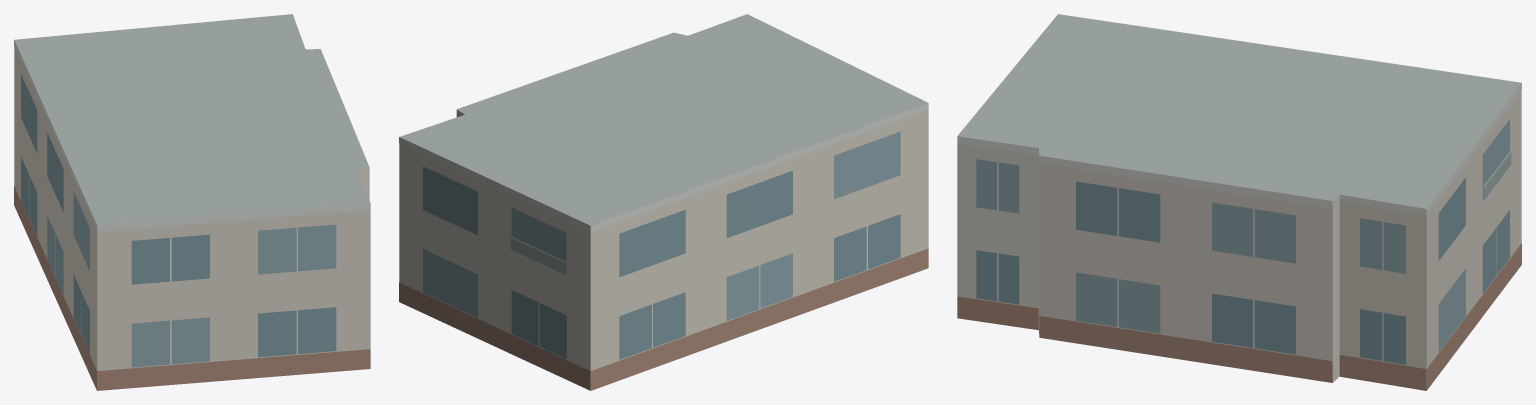
The model's file is survey-upis-32693910.glb.
3 renders of one model, left to right at view 1: azimuth 30°, elevation 25°; view 2: azimuth 150°, elevation 25°; view 3: azimuth 270°, elevation 25°, orthographic. The views are drawn at different scales.
Visible parts, largest first — view 1: survey-upis-32693910.tmp; view 2: survey-upis-32693910.tmp; view 3: survey-upis-32693910.tmp.
Part boxes in pixels (bbox=[...]): survey-upis-32693910.tmp: bbox=[14, 14, 370, 390]; survey-upis-32693910.tmp: bbox=[399, 14, 928, 390]; survey-upis-32693910.tmp: bbox=[957, 14, 1521, 390].
Size of the model in its own units: 14.02 by 6.1 by 17.16.
